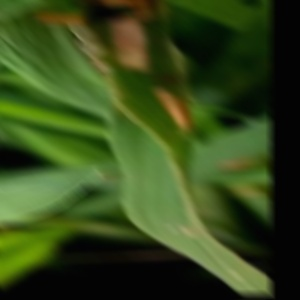Brown_Spot: (102, 12, 165, 79), (148, 81, 198, 145)
